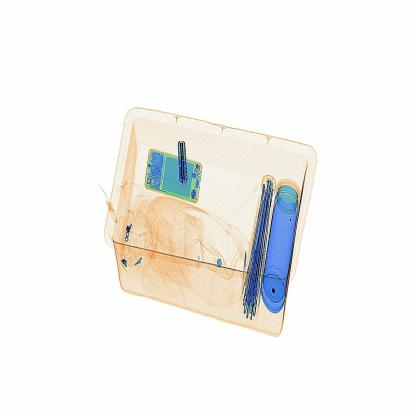scissors: (174, 136, 197, 195)
